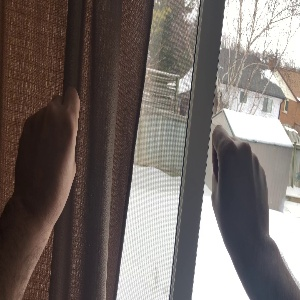hand: (15, 88, 76, 213), (212, 126, 269, 235)
